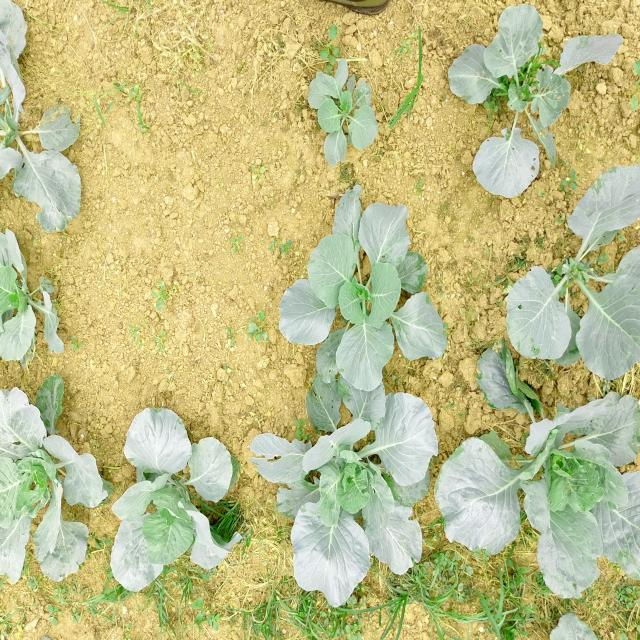Cabbage: (443, 364, 640, 607), (247, 366, 438, 608), (282, 189, 460, 388), (440, 0, 601, 203), (506, 157, 640, 375), (111, 401, 244, 605), (0, 372, 109, 606), (0, 0, 91, 246), (0, 227, 69, 379), (304, 56, 387, 168)
